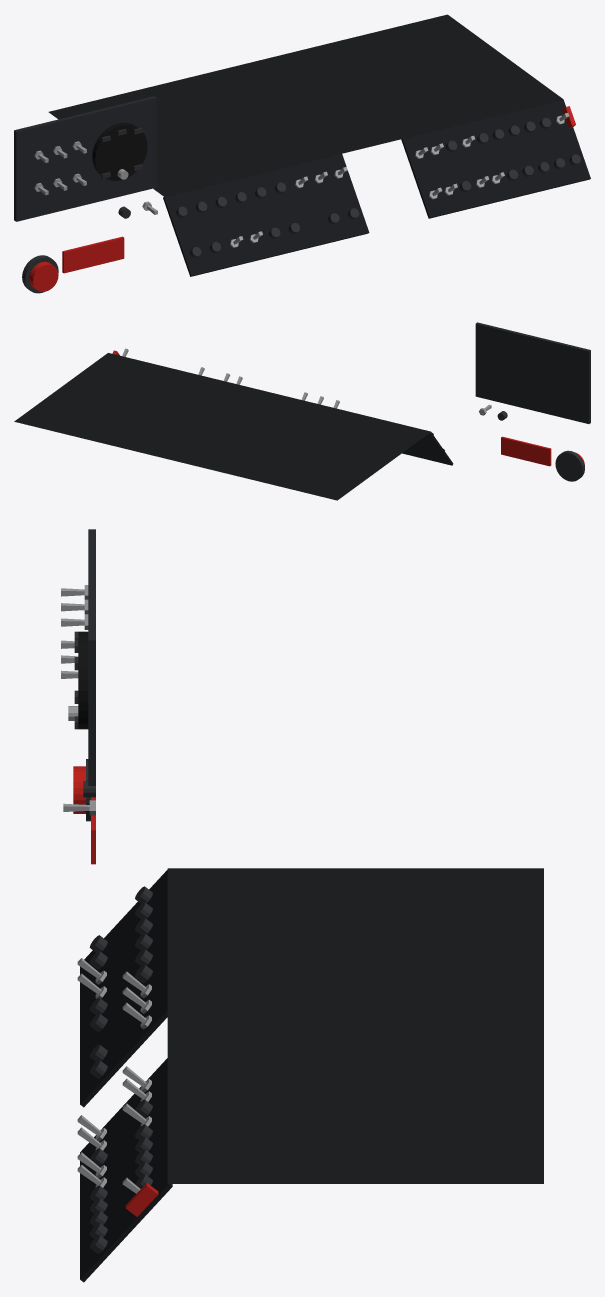
The model's file is cab_llaves.glb.
3 renders of one model, top to bottom at view 1: azimuth 30°, elevation 25°; view 2: azimuth 150°, elevation 25°; view 3: azimuth 270°, elevation 25°, orthographic. The views are drawn at different scales.
Parts seen in each view (by area): view 1: llaves_tablero, panel_izq, panel_der, frds_placa, llaves_bisel, llaves_caratula, salvo_placa, llaves_metal, swSALVO; view 2: llaves_tablero, frds_placa, salvo_placa, llaves_bisel, panel_izq; view 3: llaves_tablero, panel_izq, panel_der, llaves_bisel, frds_placa, llaves_metal, llaves_caratula.
Boxes of the visible parts, <box> form: llaves_tablero: <box>48,14,563,196</box>; panel_izq: <box>163,154,369,276</box>; panel_der: <box>401,100,590,218</box>; frds_placa: <box>14,96,156,221</box>; llaves_bisel: <box>22,117,580,293</box>; llaves_caratula: <box>92,122,147,180</box>; salvo_placa: <box>62,236,124,273</box>; llaves_metal: <box>34,115,564,247</box>; swSALVO: <box>29,261,58,291</box>; llaves_tablero: <box>14,353,430,500</box>; frds_placa: <box>475,322,590,423</box>; salvo_placa: <box>501,436,551,466</box>; llaves_bisel: <box>432,411,584,481</box>; panel_izq: <box>402,432,453,465</box>; llaves_tablero: <box>167,868,543,1183</box>; panel_izq: <box>80,870,167,1107</box>; panel_der: <box>80,1058,172,1282</box>; llaves_bisel: <box>74,631,152,1253</box>; frds_placa: <box>88,529,95,785</box>; llaves_metal: <box>68,585,151,1187</box>; llaves_caratula: <box>78,631,88,729</box>.
Size of the model in its own units: 0.852 by 0.2648 by 0.385.
